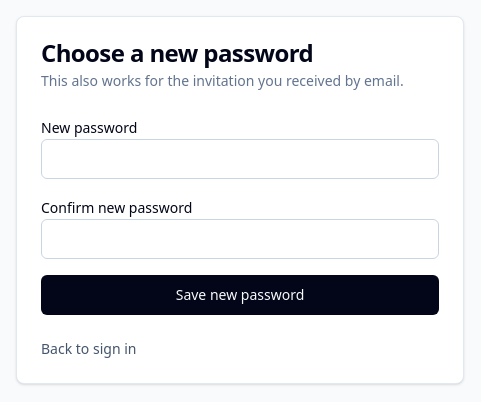
Test: ResetPasswordPage › sends the token and password, then offers sign in
Type "BrandNewPass1" into the password field labelled "New password" at {"x": 240, "y": 159}, box [41,139,439,179]
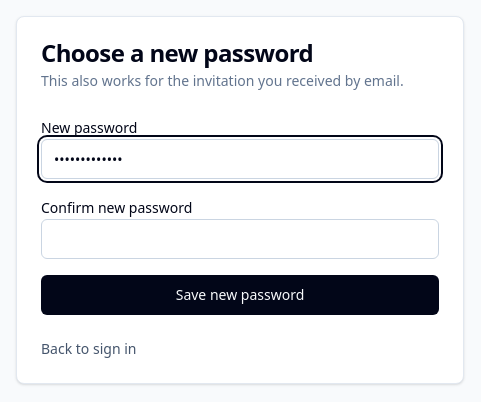
Type "BrandNewPass1" into the password field labelled "Confirm new password" at {"x": 240, "y": 239}, box [41,219,439,259]
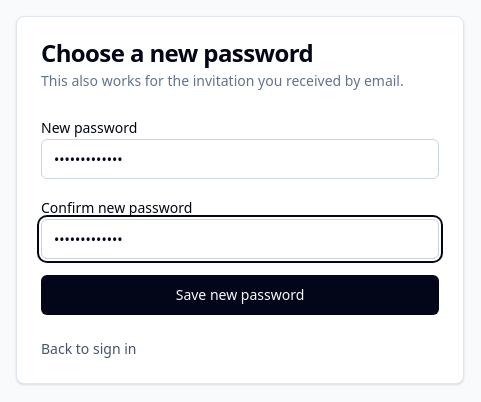
Click the button "Save new password" at {"x": 240, "y": 295}, box [41,275,439,315]
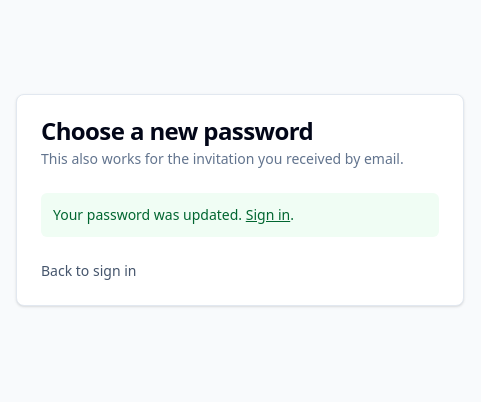
Result: the message shows "Your password was updated." at [53,205,242,224]
